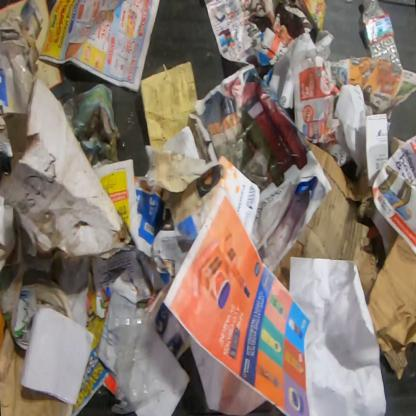cardboard: (0, 75, 133, 263), (272, 134, 380, 300), (366, 233, 416, 381), (0, 327, 75, 416), (0, 0, 45, 115)
rigid_plastic: (361, 0, 404, 71)
soft_plastic: (109, 300, 161, 416)
